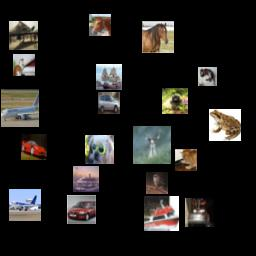airplane: (1, 89, 39, 127), (9, 189, 41, 221), (9, 21, 38, 50)
automobile: (67, 195, 96, 224), (185, 198, 214, 227), (21, 134, 47, 160), (98, 92, 120, 114)
bird: (146, 172, 168, 194)
cat: (175, 149, 197, 171), (13, 54, 35, 76)
deer: (133, 126, 171, 164)
dog: (85, 135, 114, 164), (162, 88, 188, 114), (198, 67, 217, 86)
frog: (209, 109, 241, 141)
ship: (144, 196, 179, 231), (96, 64, 122, 90), (73, 166, 99, 192)
